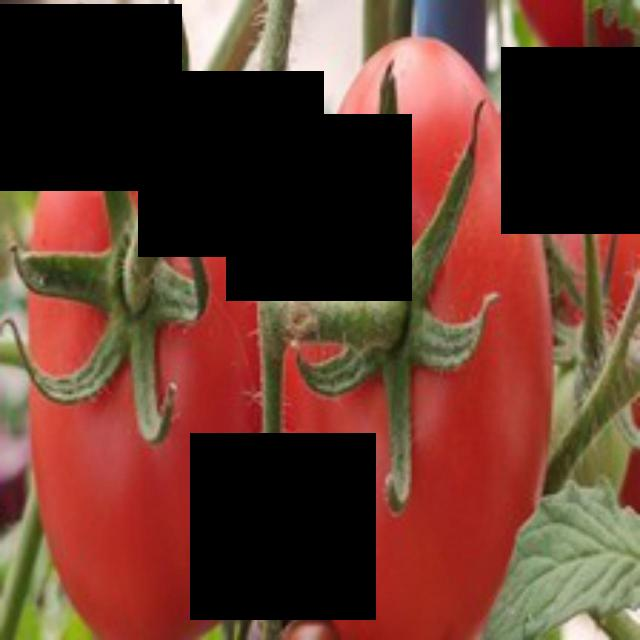tomato: (277, 31, 554, 637), (26, 51, 274, 637)
